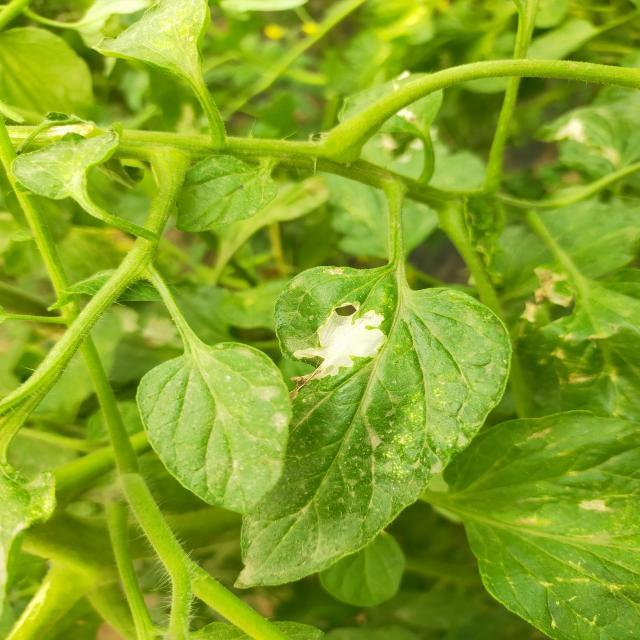Tuta absoluta: (274, 290, 398, 393)
